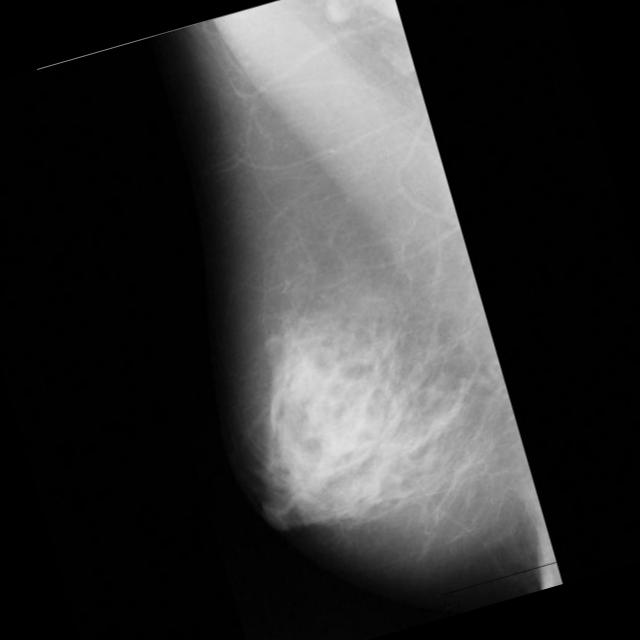CALC: (443, 392, 463, 412)
